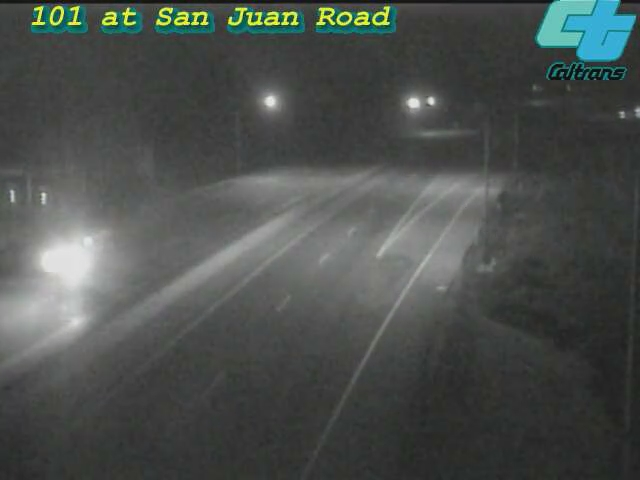vehicle: (30, 222, 110, 302)
